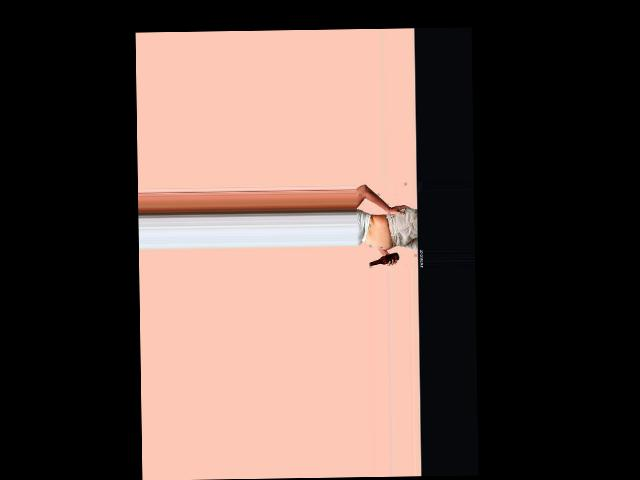beer: (369, 251, 399, 266)
